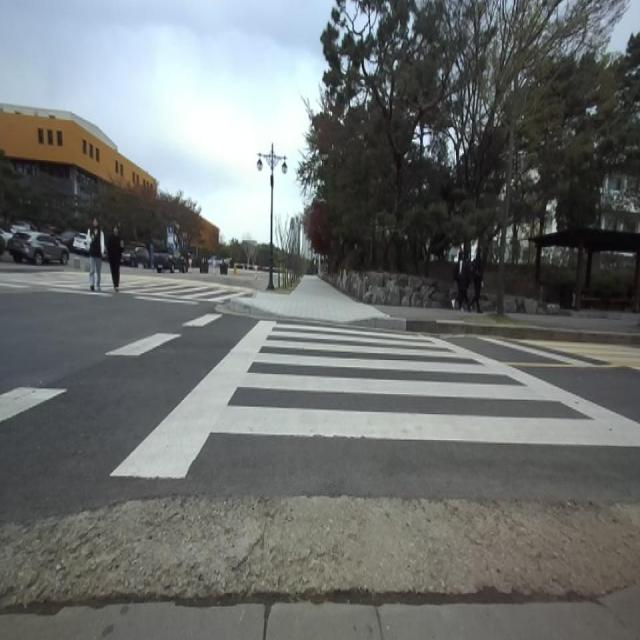sidewalk: (0, 586, 640, 640), (231, 275, 389, 322)
